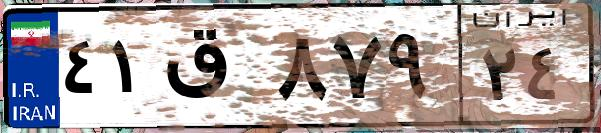1: (110, 28, 158, 98)
2: (475, 38, 525, 113)
4: (57, 26, 110, 100), (525, 38, 570, 115)
7: (330, 28, 385, 110)
8: (270, 28, 330, 110)
9: (385, 28, 445, 110)
ق: (158, 20, 270, 120)
